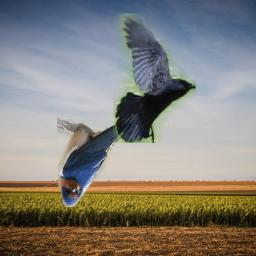Crow: (113, 13, 196, 143)
Swallow: (57, 87, 158, 207)
